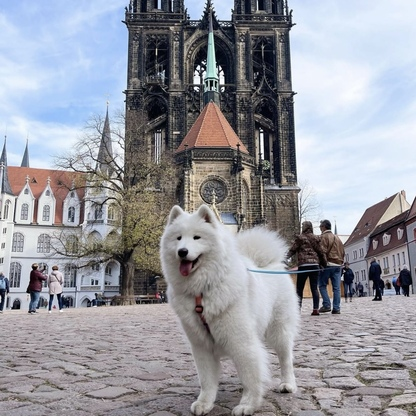samoyed: (153, 199, 306, 416)
